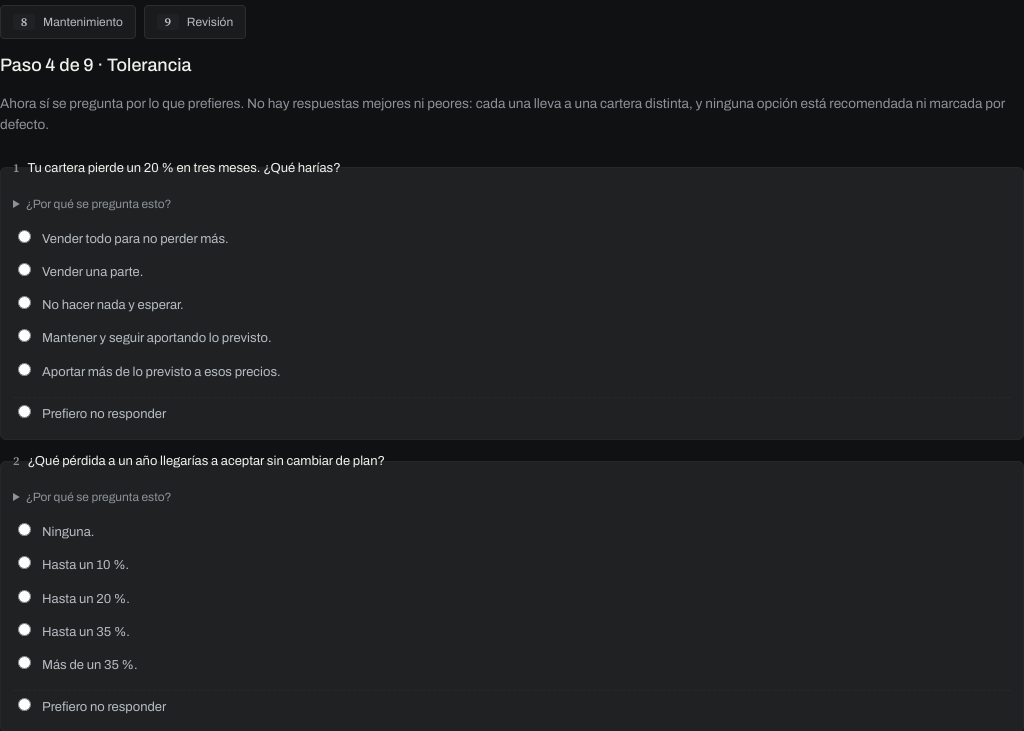
Test: IpsWizard · tolerancia › con cuatro de cinco no hay banda todavía
The width and height of the screenshot is (1024, 731).
Click the radio button labelled "No hacer nada y esperar." at (24, 303), box [18,296,31,309]
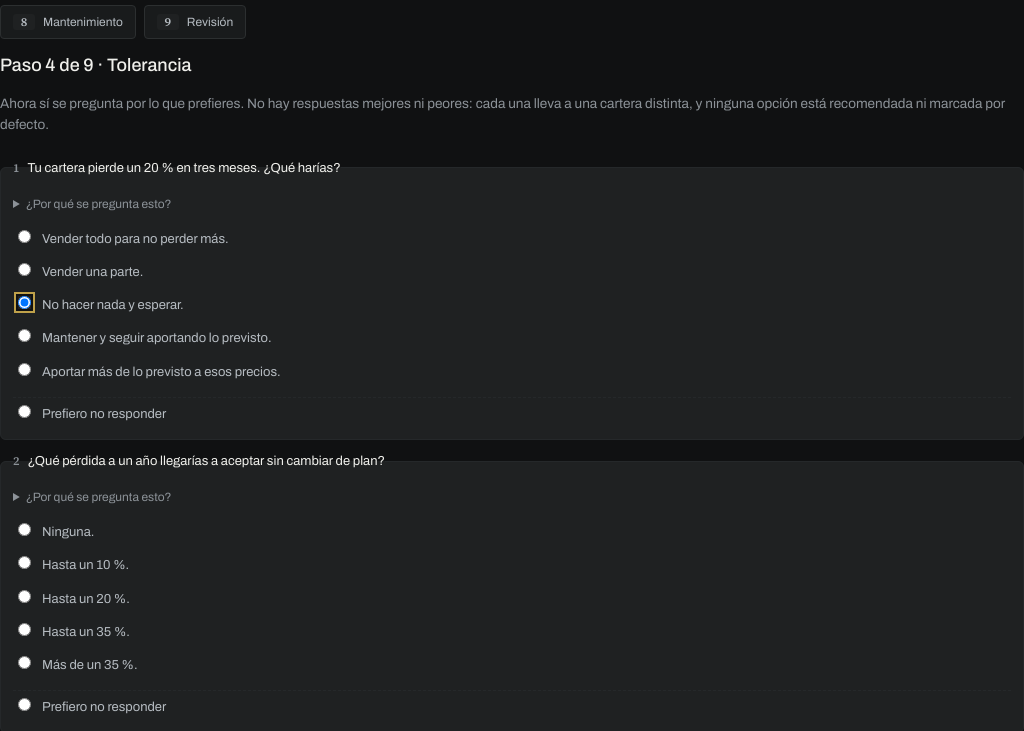
Click the radio button labelled "Hasta un 20 %." at (24, 596), box [18,590,31,603]
(page scrolled)
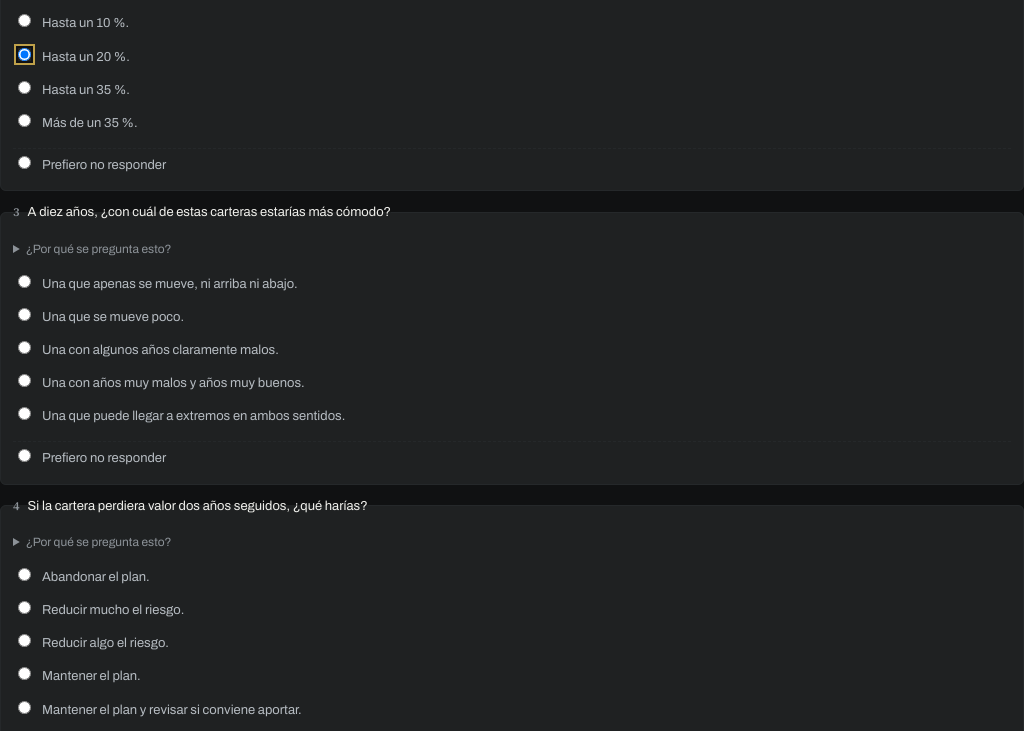
Click the radio button labelled "Una con algunos años claramente malos." at (24, 347), box [18,341,31,354]
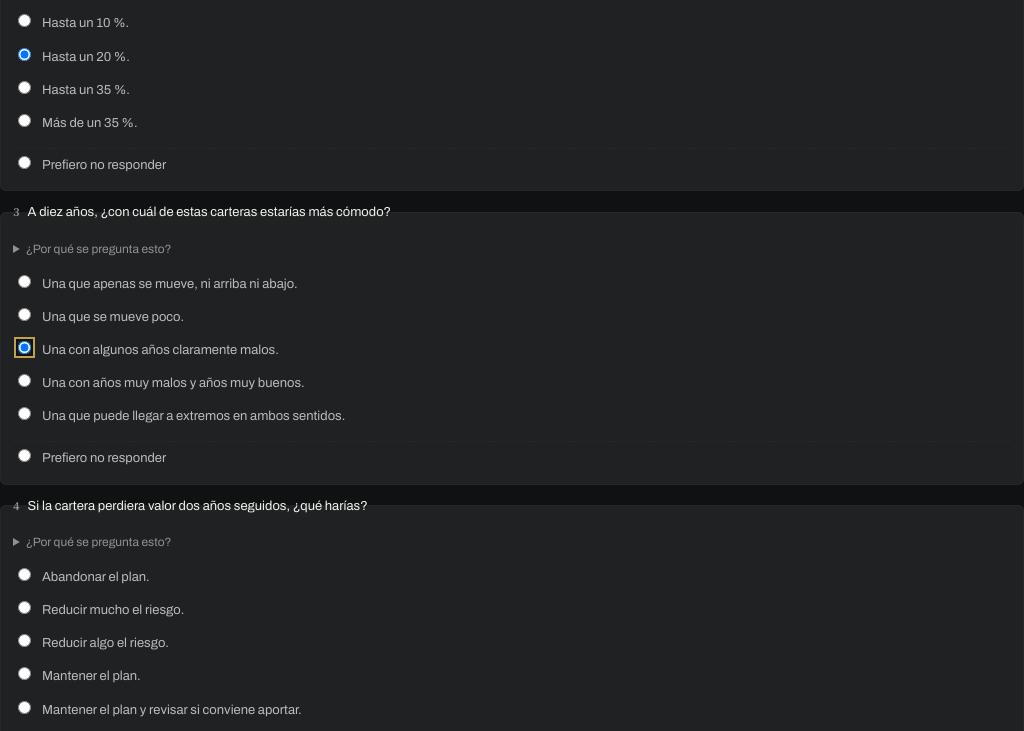
Click the radio button labelled "Reducir algo el riesgo." at (24, 641), box [18,634,31,647]
(page scrolled)
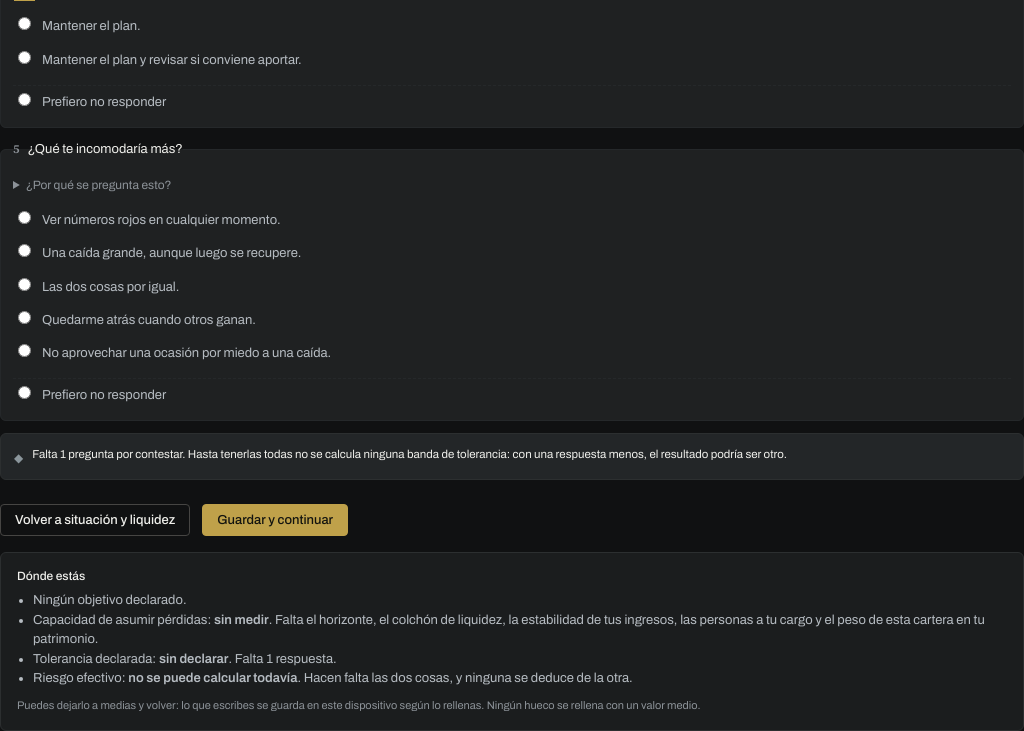
expect the text "Falta 1 pregunta por contestar" is shown: met, box [32,448,185,460]
